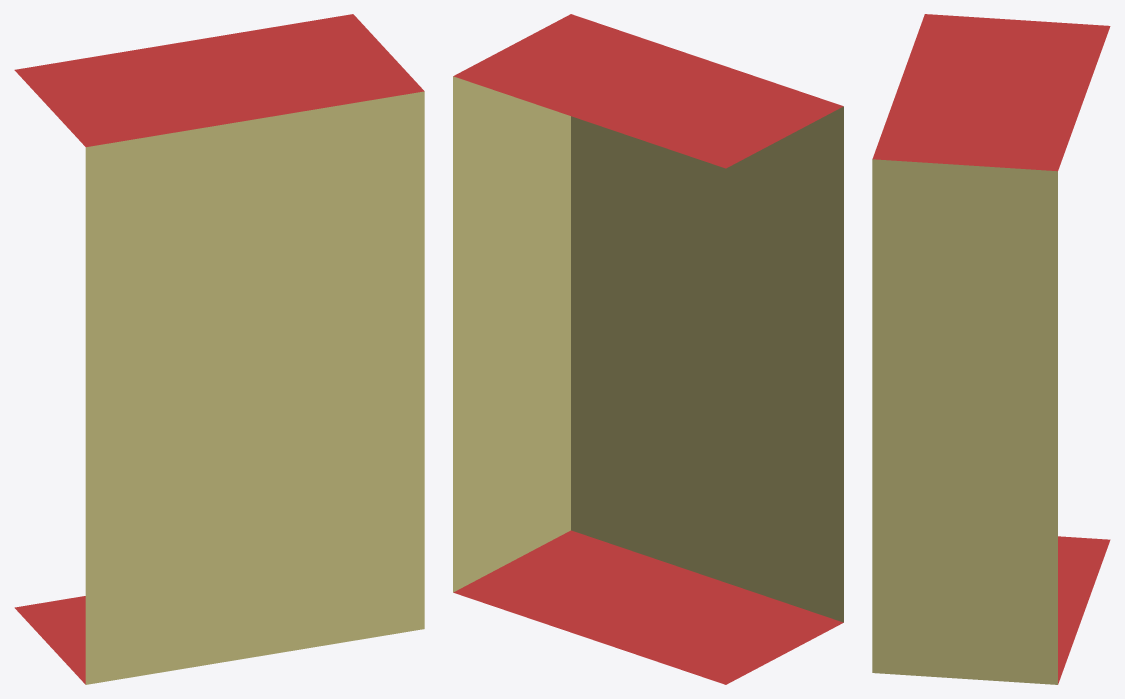
3 renders of one model, left to right at view 1: azimuth 30°, elevation 25°; view 2: azimuth 150°, elevation 25°; view 3: azimuth 270°, elevation 25°, orthographic. The views are drawn at different scales.
Size of the model in its own units: 6.27 by 4.02 by 9.56.
